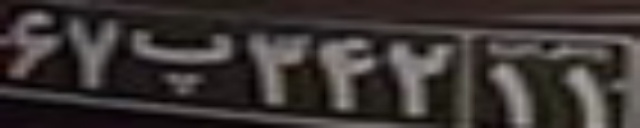1: (487, 58, 538, 126), (560, 60, 611, 127)
2: (387, 38, 446, 119)
3: (245, 26, 311, 106)
4: (315, 32, 377, 113)
6: (5, 9, 64, 83)
7: (68, 9, 125, 90)
pe: (131, 24, 236, 96)
